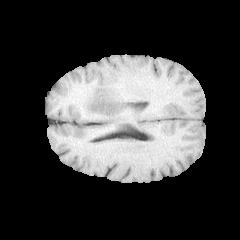glioma: (72, 86, 128, 119)
